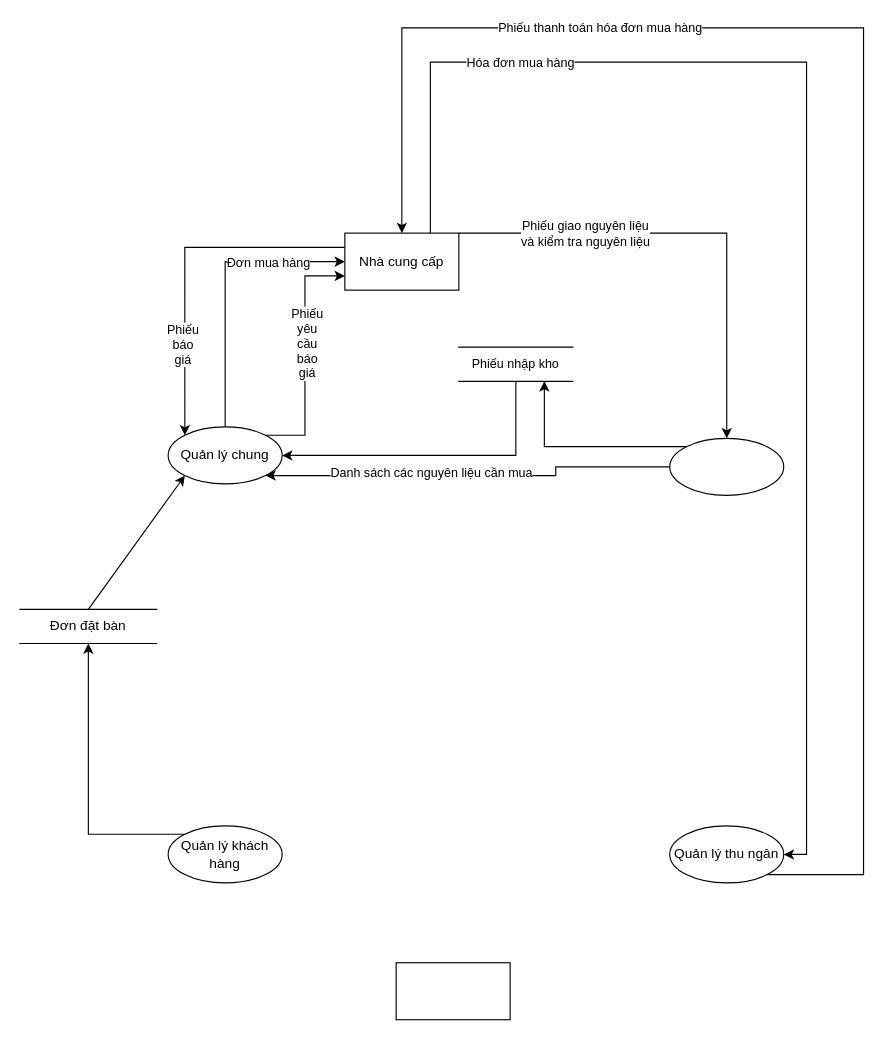
Some shapes in this 893 by 1040 pixel diagram are drawn without their labels. Each missing label, with the centre of its shape:
"Khách hàng" goes at (x=452, y=991).
"Quản lý nhà bếp" goes at (x=726, y=466).
